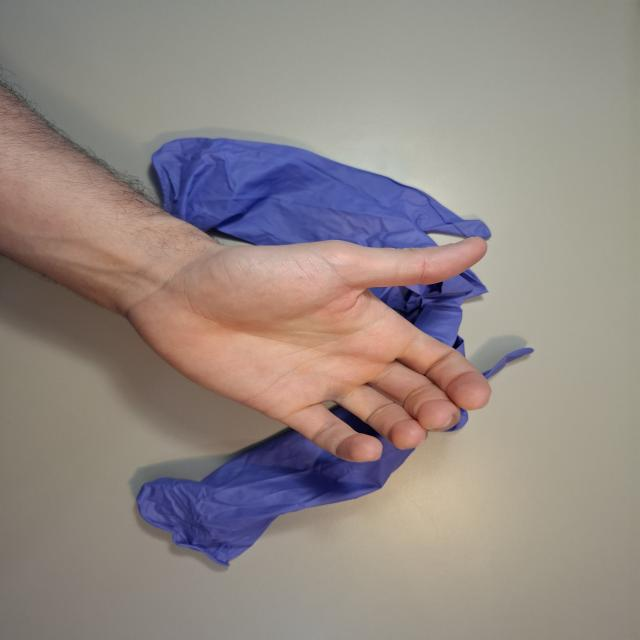glove_off: (125, 232, 497, 464)
